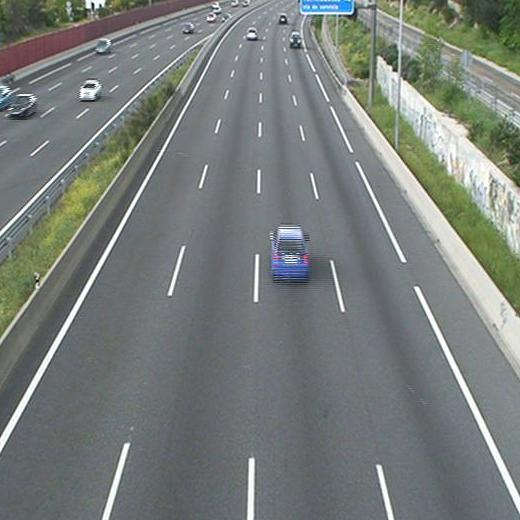car: (271, 227, 309, 277), (289, 32, 301, 45), (246, 28, 258, 39), (278, 14, 287, 22)
